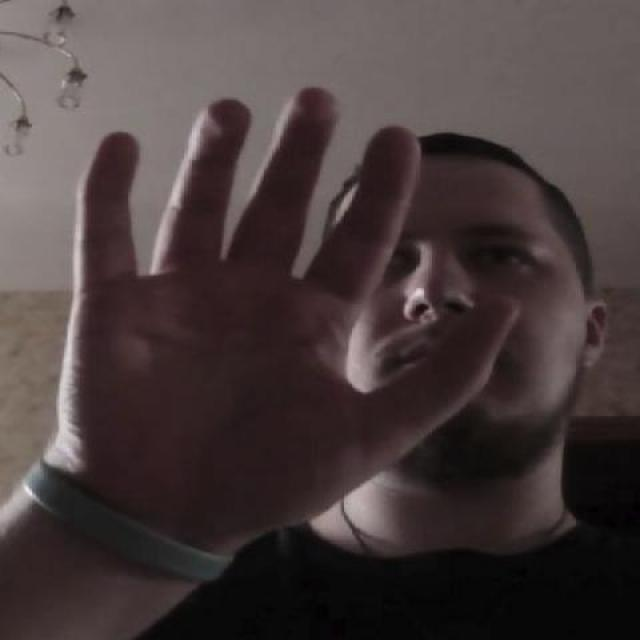Open Hand: (49, 82, 523, 598)
